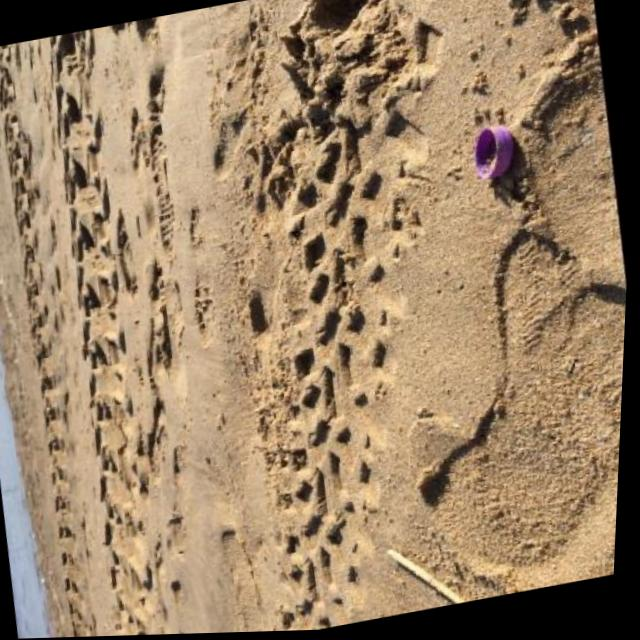plastic: (471, 122, 522, 182)
